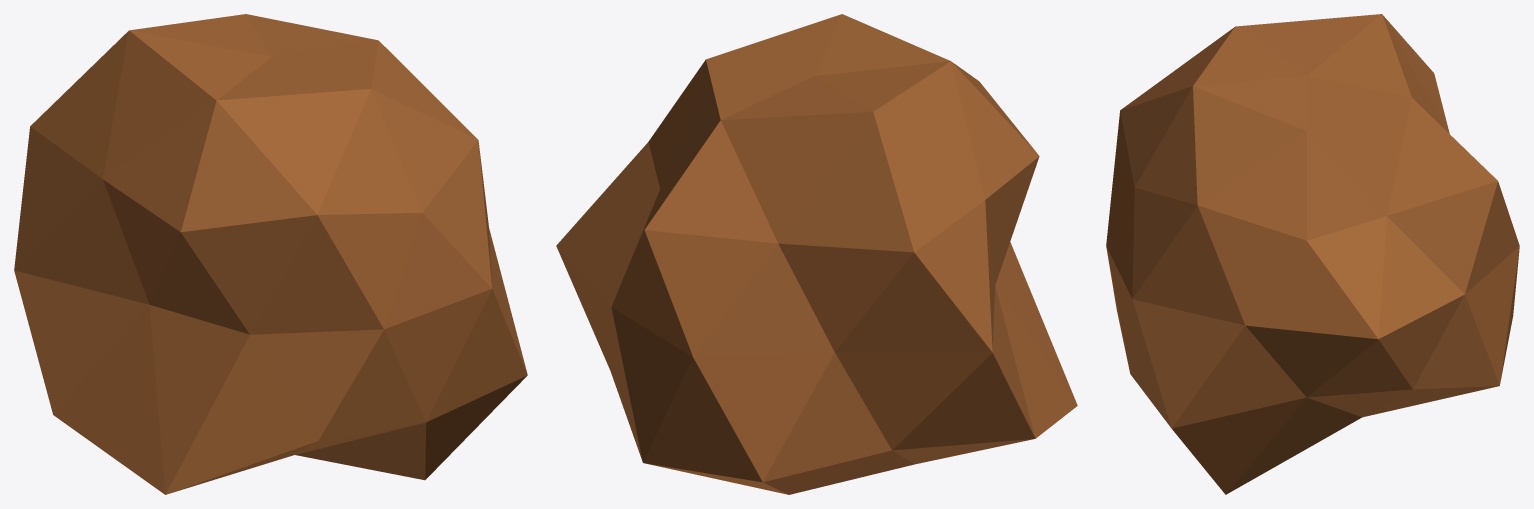
The model's file is boulder1.gltf.
3 renders of one model, left to right at view 1: azimuth 30°, elevation 25°; view 2: azimuth 150°, elevation 25°; view 3: azimuth 270°, elevation 25°, orthographic. The views are drawn at different scales.
Visible parts, largest first — view 1: Icosphere; view 2: Icosphere; view 3: Icosphere.
Boxes of the visible parts, x1,y1,x2,y2 form: Icosphere: [14, 14, 527, 494]; Icosphere: [556, 14, 1077, 494]; Icosphere: [1106, 14, 1519, 494].
Size of the model in its own units: 8.46 by 8.16 by 7.84.
